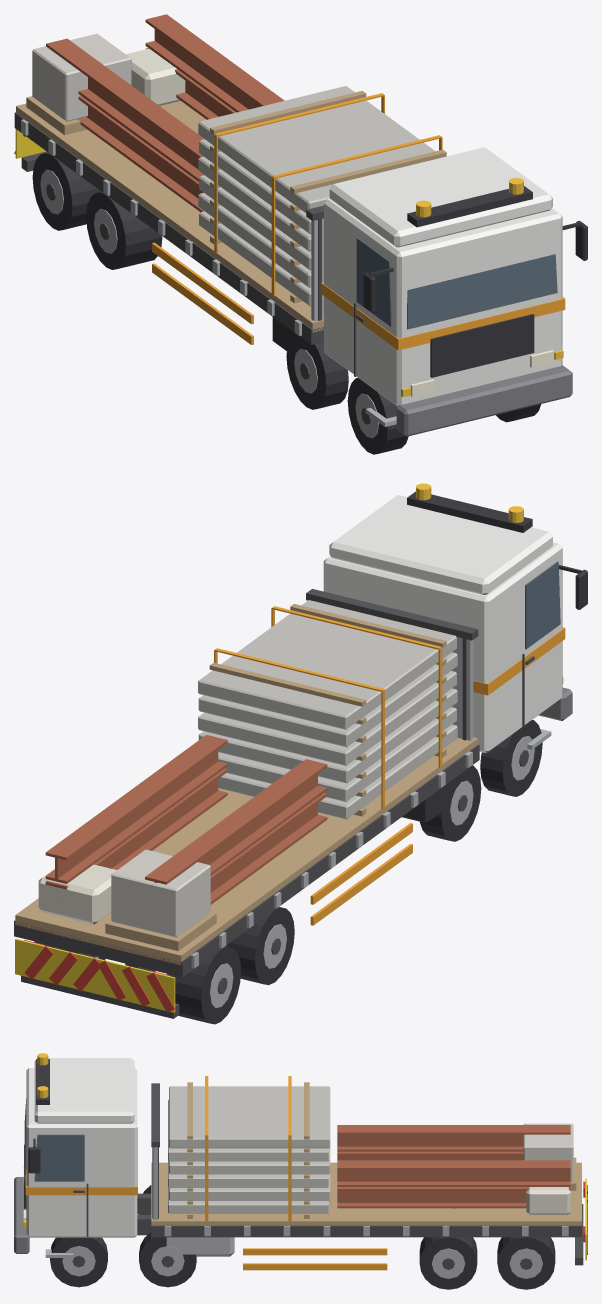
File: works_lorry.glb
The picture shows the model from 3 angles, top to bottom: view 1: azimuth 30°, elevation 25°; view 2: azimuth 150°, elevation 25°; view 3: azimuth 270°, elevation 25°; orthographic projection. The views are drawn at different scales.
Visible parts, largest first — view 1: cab_shell, load_slab_5, cab_roof, deck, win_front, bumper_f, blocks, deck_edge, grille, flange.005, wheel.004, flange.007 (+33 smaller); view 2: load_slab_5, cab_shell, deck, cab_roof, deck_edge, blocks, load_slab_3, load_slab_4, flange.005, flange.007, load_slab_2, chevron (+32 smaller); view 3: cab_shell, load_slab_5, deck, cab_roof, deck_edge, web.003, web.002, flange.005, flange.007, web.001, win_side.001, load_slab_4 (+35 smaller).
Boxes of the visible parts, box(x1,y1,x2,y2) form: cab_shell: box(324, 198, 562, 406); load_slab_5: box(198, 86, 434, 212); cab_roof: box(329, 147, 552, 247); deck: box(16, 101, 323, 332); win_front: box(407, 254, 557, 329); bumper_f: box(396, 365, 572, 436); blocks: box(32, 33, 131, 121); deck_edge: box(14, 112, 323, 344); grille: box(430, 314, 534, 377); flange.005: box(46, 38, 204, 157); wheel.004: box(86, 191, 162, 269); flange.007: box(145, 14, 284, 106); load_slab_5: box(198, 600, 456, 729); cab_shell: box(323, 542, 562, 753); deck: box(15, 737, 478, 964); cab_roof: box(329, 495, 552, 594); deck_edge: box(14, 744, 479, 977); blocks: box(111, 849, 210, 937); load_slab_3: box(198, 671, 456, 765); load_slab_4: box(198, 652, 457, 747); flange.005: box(145, 759, 327, 884); flange.007: box(45, 735, 227, 860); load_slab_2: box(198, 688, 457, 783); chevron: box(15, 938, 175, 1012); cab_shell: box(26, 1068, 137, 1237); load_slab_5: box(169, 1086, 330, 1148); deck: box(151, 1162, 581, 1225); cab_roof: box(34, 1058, 134, 1123); deck_edge: box(151, 1225, 581, 1237); web.003: box(337, 1170, 570, 1181); web.002: box(337, 1134, 523, 1146); flange.005: box(337, 1125, 570, 1134); flange.007: box(337, 1160, 570, 1169); web.001: box(337, 1191, 526, 1202); win_side.001: box(34, 1134, 84, 1181); load_slab_4: box(168, 1100, 328, 1161).
Size of the model in its own units: 3.28 by 3.73 by 10.33.
